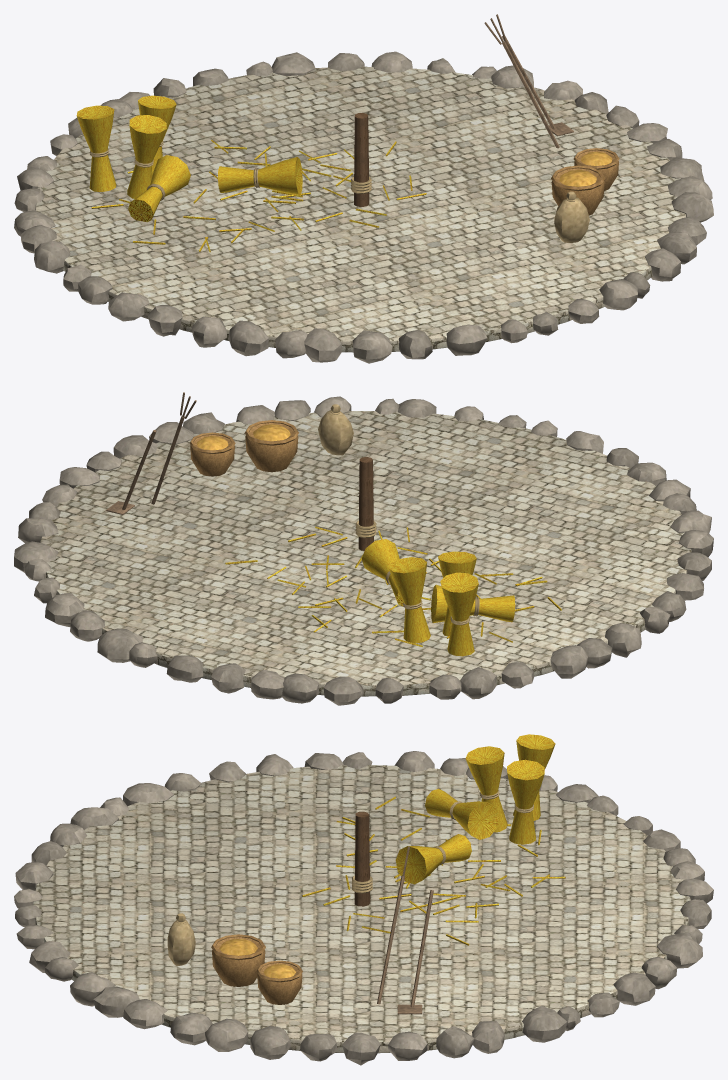
Rendered from country_threshing-floor.glb.
3 views of the same model, one above another, from view 1: azimuth 30°, elevation 25°; view 2: azimuth 150°, elevation 25°; view 3: azimuth 270°, elevation 25° (orthographic).
Parts seen in each view (by area): view 1: paving, rock.046, hay.051, wicker, sack.001, wood, wood_dark, grain, rope; view 2: paving, rock.046, hay.051, wicker, sack.001, wood_dark, wood, grain, rope; view 3: paving, rock.046, hay.051, wicker, wood, wood_dark, sack.001, grain, rope.
Part boxes in pixels (left/top/right/bottom): paving: left=35, top=66, right=686, bottom=352; rock.046: left=14, top=51, right=713, bottom=363; hay.051: left=76, top=95, right=426, bottom=252; wicker: left=551, top=148, right=619, bottom=215; sack.001: left=554, top=191, right=589, bottom=242; wood: left=484, top=14, right=573, bottom=148; wood_dark: left=354, top=113, right=369, bottom=206; grain: left=559, top=151, right=612, bottom=186; rope: left=89, top=141, right=576, bottom=201; paving: left=40, top=411, right=691, bottom=696; rock.046: left=14, top=396, right=713, bottom=705; hay.051: left=225, top=526, right=561, bottom=656; wicker: left=189, top=420, right=298, bottom=476; sack.001: left=318, top=404, right=353, bottom=455; wood_dark: left=358, top=457, right=373, bottom=550; wood: left=106, top=392, right=196, bottom=514; grain: left=196, top=424, right=290, bottom=450; rope: left=330, top=411, right=479, bottom=625; paving: left=32, top=765, right=690, bottom=1053; rock.046: left=14, top=751, right=713, bottom=1065; hay.051: left=302, top=734, right=565, bottom=945; wicker: left=211, top=934, right=302, bottom=1004; wood: left=377, top=846, right=433, bottom=1014; wood_dark: left=354, top=811, right=370, bottom=906; sack.001: left=167, top=913, right=195, bottom=965; grain: left=219, top=939, right=295, bottom=978; rope: left=176, top=790, right=533, bottom=923.
Size of the model in its own units: 8.58 by 2.08 by 8.5.
9 materials, 9 textured.
